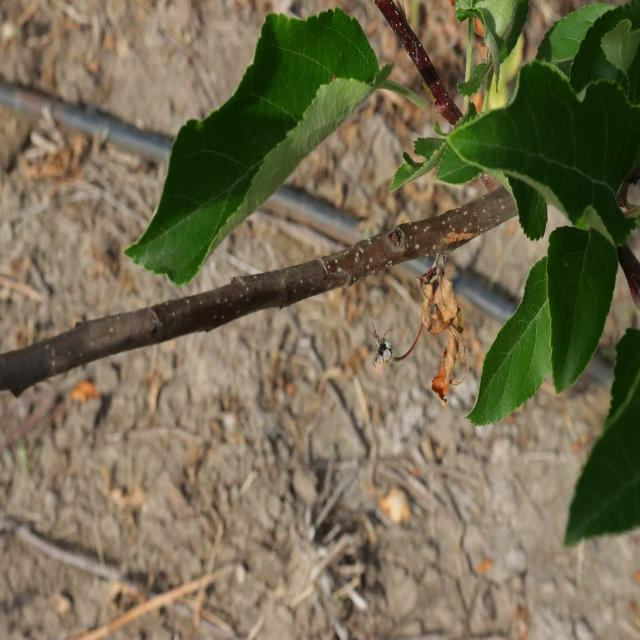-FireBlight-: (388, 233, 484, 393)
